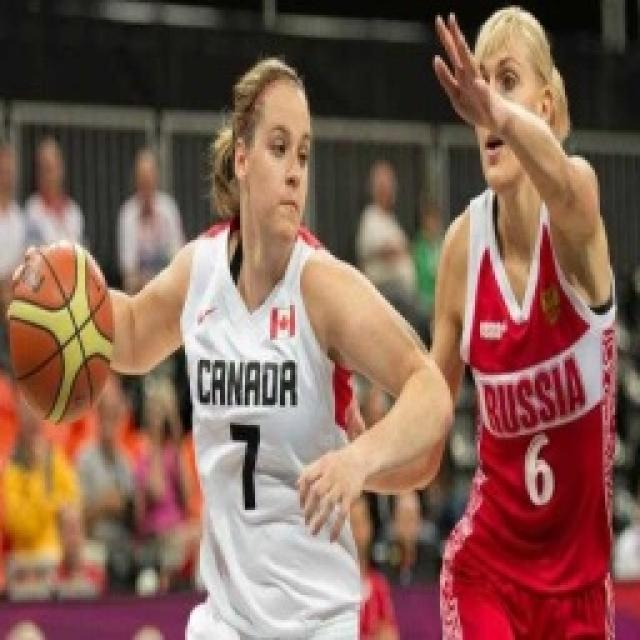basketball: (4, 233, 124, 430)
